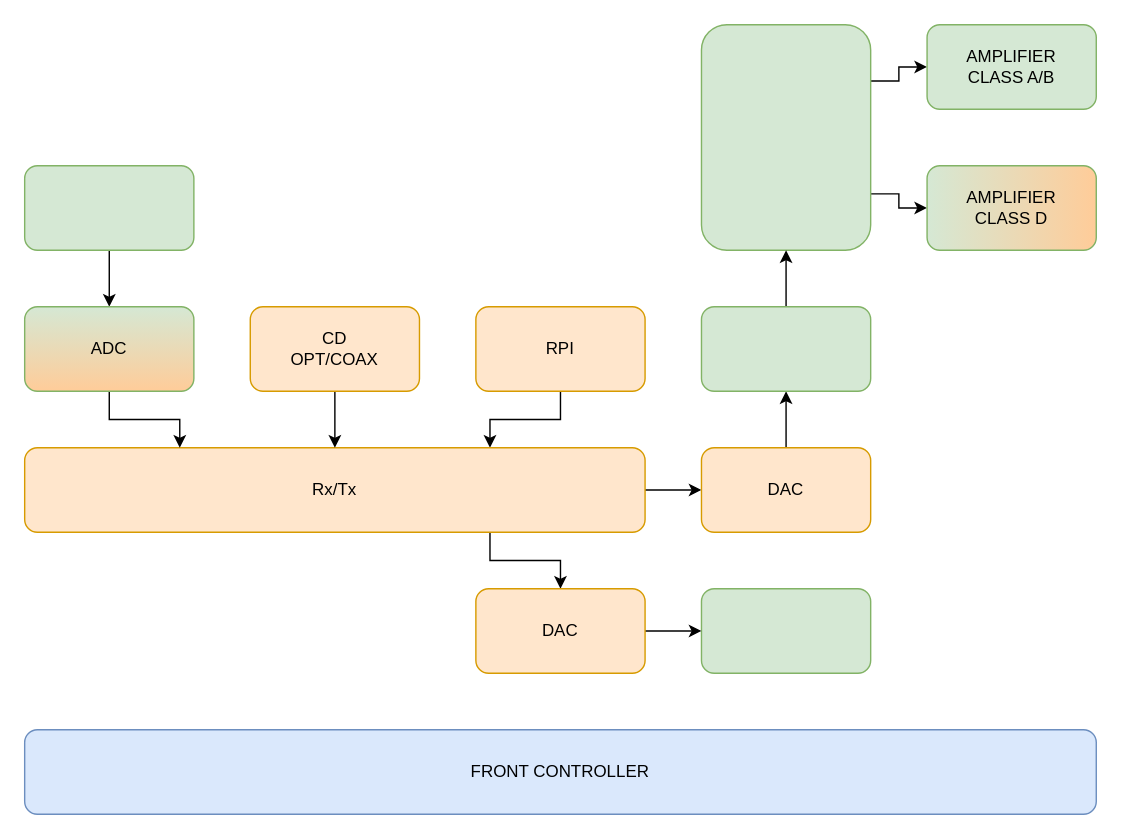
Image size: 1121x839. Some labels were removed from this diagram. The centre of each missing label's shape, as x and y in pixels:
"FILTER LF/HF" belongs at point (785, 136).
"HEADPHONE" belongs at point (785, 630).
"I/V STAGE" belongs at point (785, 348).
"Phono RIAA" belongs at point (108, 207).
